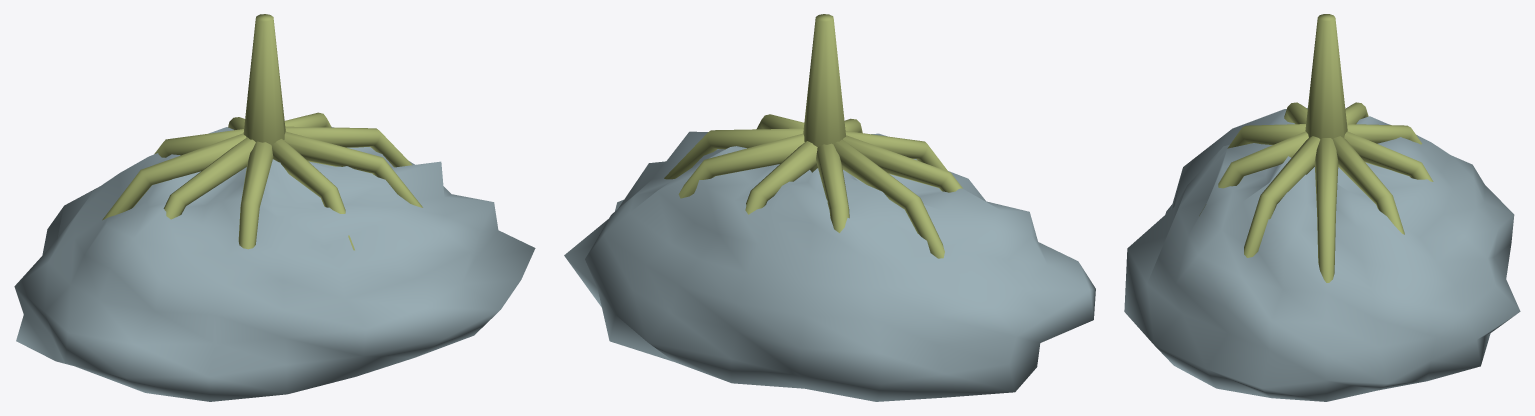
Rendered from underwater-reef-worlds-kelp-holdfast-01e71d1e__7037.glb.
3 views of the same model, side by side, from view 1: azimuth 30°, elevation 25°; view 2: azimuth 150°, elevation 25°; view 3: azimuth 270°, elevation 25° (orthographic). The views are drawn at different scales.
Visible parts, largest first — view 1: kelp-holdfast; view 2: kelp-holdfast; view 3: kelp-holdfast.
Boxes of the visible parts, box(x1,y1,x2,y2) form: kelp-holdfast: box(14, 14, 535, 401); kelp-holdfast: box(564, 14, 1095, 401); kelp-holdfast: box(1124, 14, 1520, 401).
Size of the model in its own units: 0.8061 by 0.48 by 0.6034.
